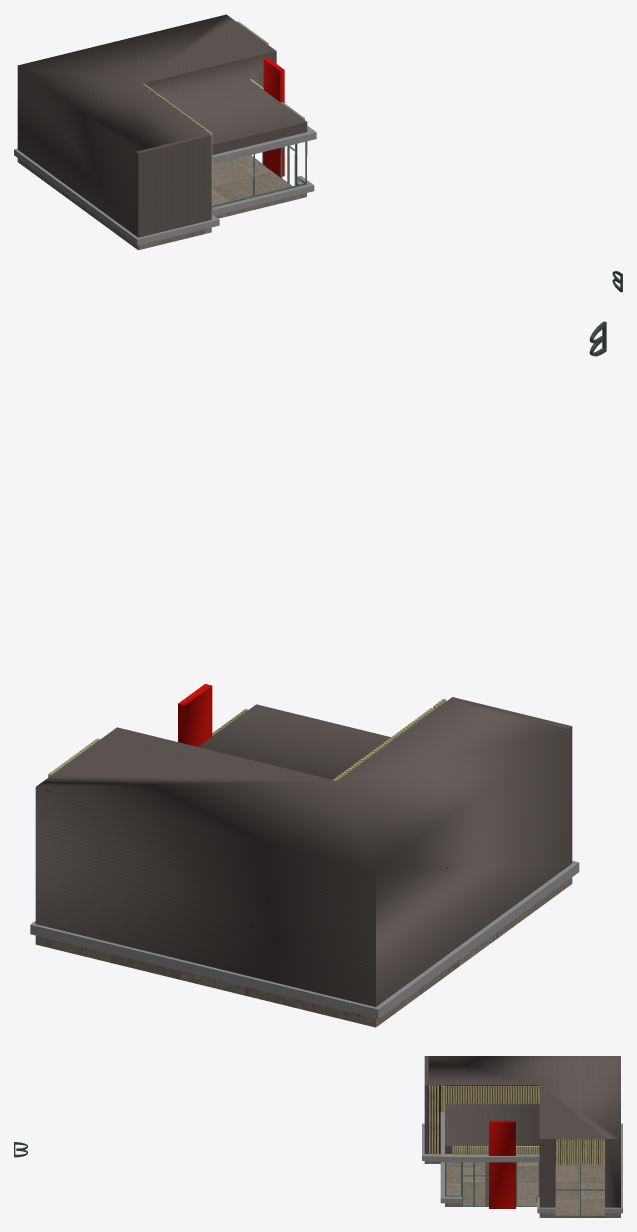
The model's file is Uncle Vanya.obj.
The picture shows the model from 3 angles, top to bottom: view 1: azimuth 30°, elevation 25°; view 2: azimuth 150°, elevation 25°; view 3: azimuth 270°, elevation 25°; orthographic projection. The views are drawn at different scales.
Parts seen in each view (by area): view 1: blackbuild, pollbuild, whitebuild, redbuild, framebuild, stickbuild; view 2: blackbuild, whitebuild, pollbuild, redbuild; view 3: blackbuild, pollbuild, stickbuild, woodbuild, redbuild, whitebuild, framebuild.
Boxes of the visible parts, x1,y1,x2,y2 form: blackbuild: (17,14,307,237); pollbuild: (17,148,306,250); whitebuild: (14,126,316,245); redbuild: (263,58,284,176); framebuild: (212,141,307,207); stickbuild: (142,21,304,216); blackbuild: (35,697,572,1006); whitebuild: (30,861,579,1018); pollbuild: (35,877,572,1027); redbuild: (178,684,212,746); blackbuild: (424,1056,620,1207); pollbuild: (424,1161,620,1217); stickbuild: (429,1085,604,1165); woodbuild: (428,1085,604,1164); redbuild: (489,1120,515,1208); whitebuild: (422,1111,622,1213); framebuild: (445,1162,604,1217).
Bounding box in the file's own units: 14.7 × 6.34 × 40.42.
7 materials, 7 textured.
